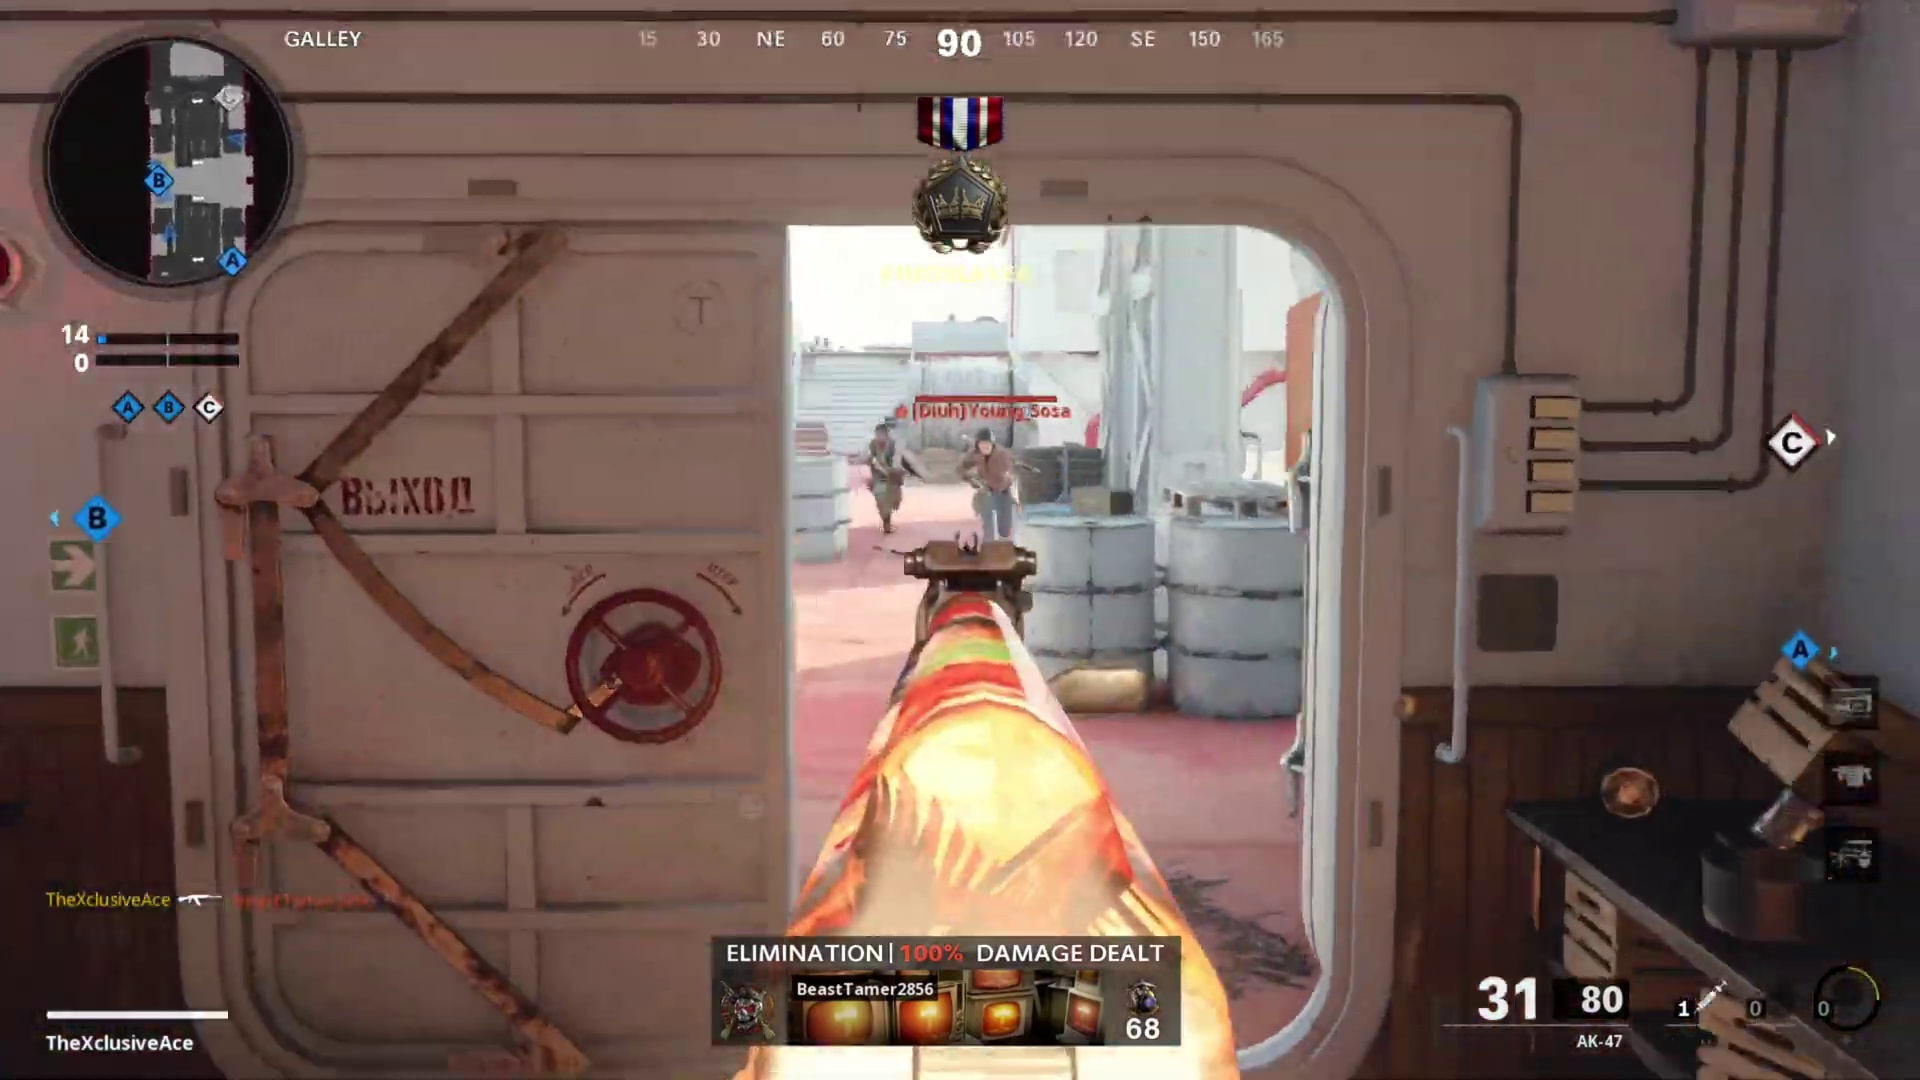head: (973, 427, 998, 462), (872, 421, 892, 449)
person: (956, 429, 1016, 542), (862, 419, 912, 532)
